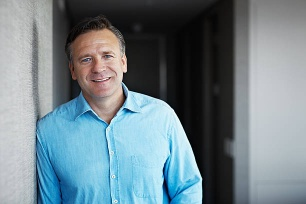male: (61, 24, 130, 99)
